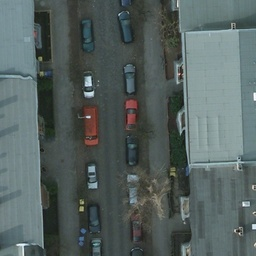car: (79, 19, 99, 51), (117, 10, 135, 44), (125, 175, 141, 207), (124, 98, 138, 131), (130, 213, 144, 244), (125, 137, 139, 167), (122, 62, 135, 94), (81, 68, 94, 98), (86, 161, 96, 189), (88, 202, 97, 230), (117, 0, 132, 9)
van: (82, 107, 98, 148)
